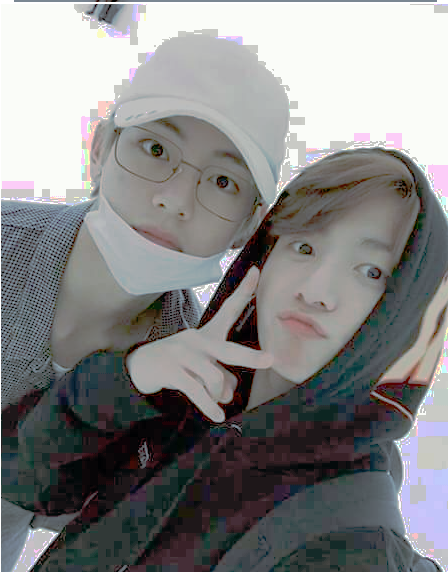mask_weared_incorrect: (92, 33, 285, 299)
